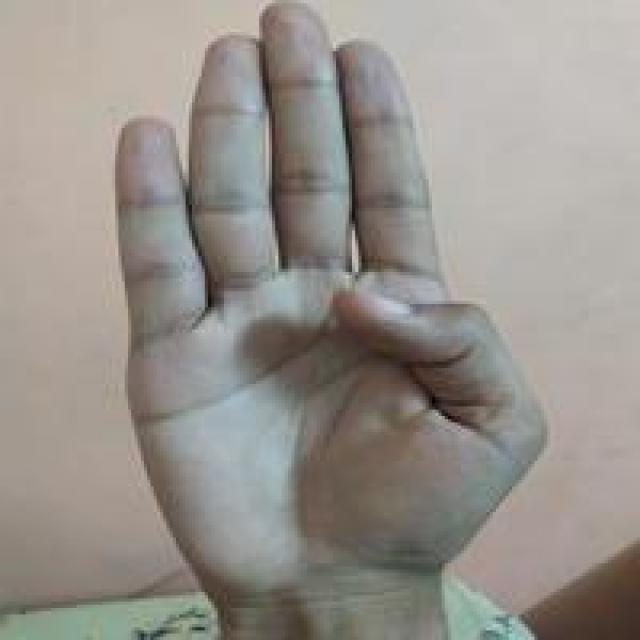B: (106, 6, 554, 608)
